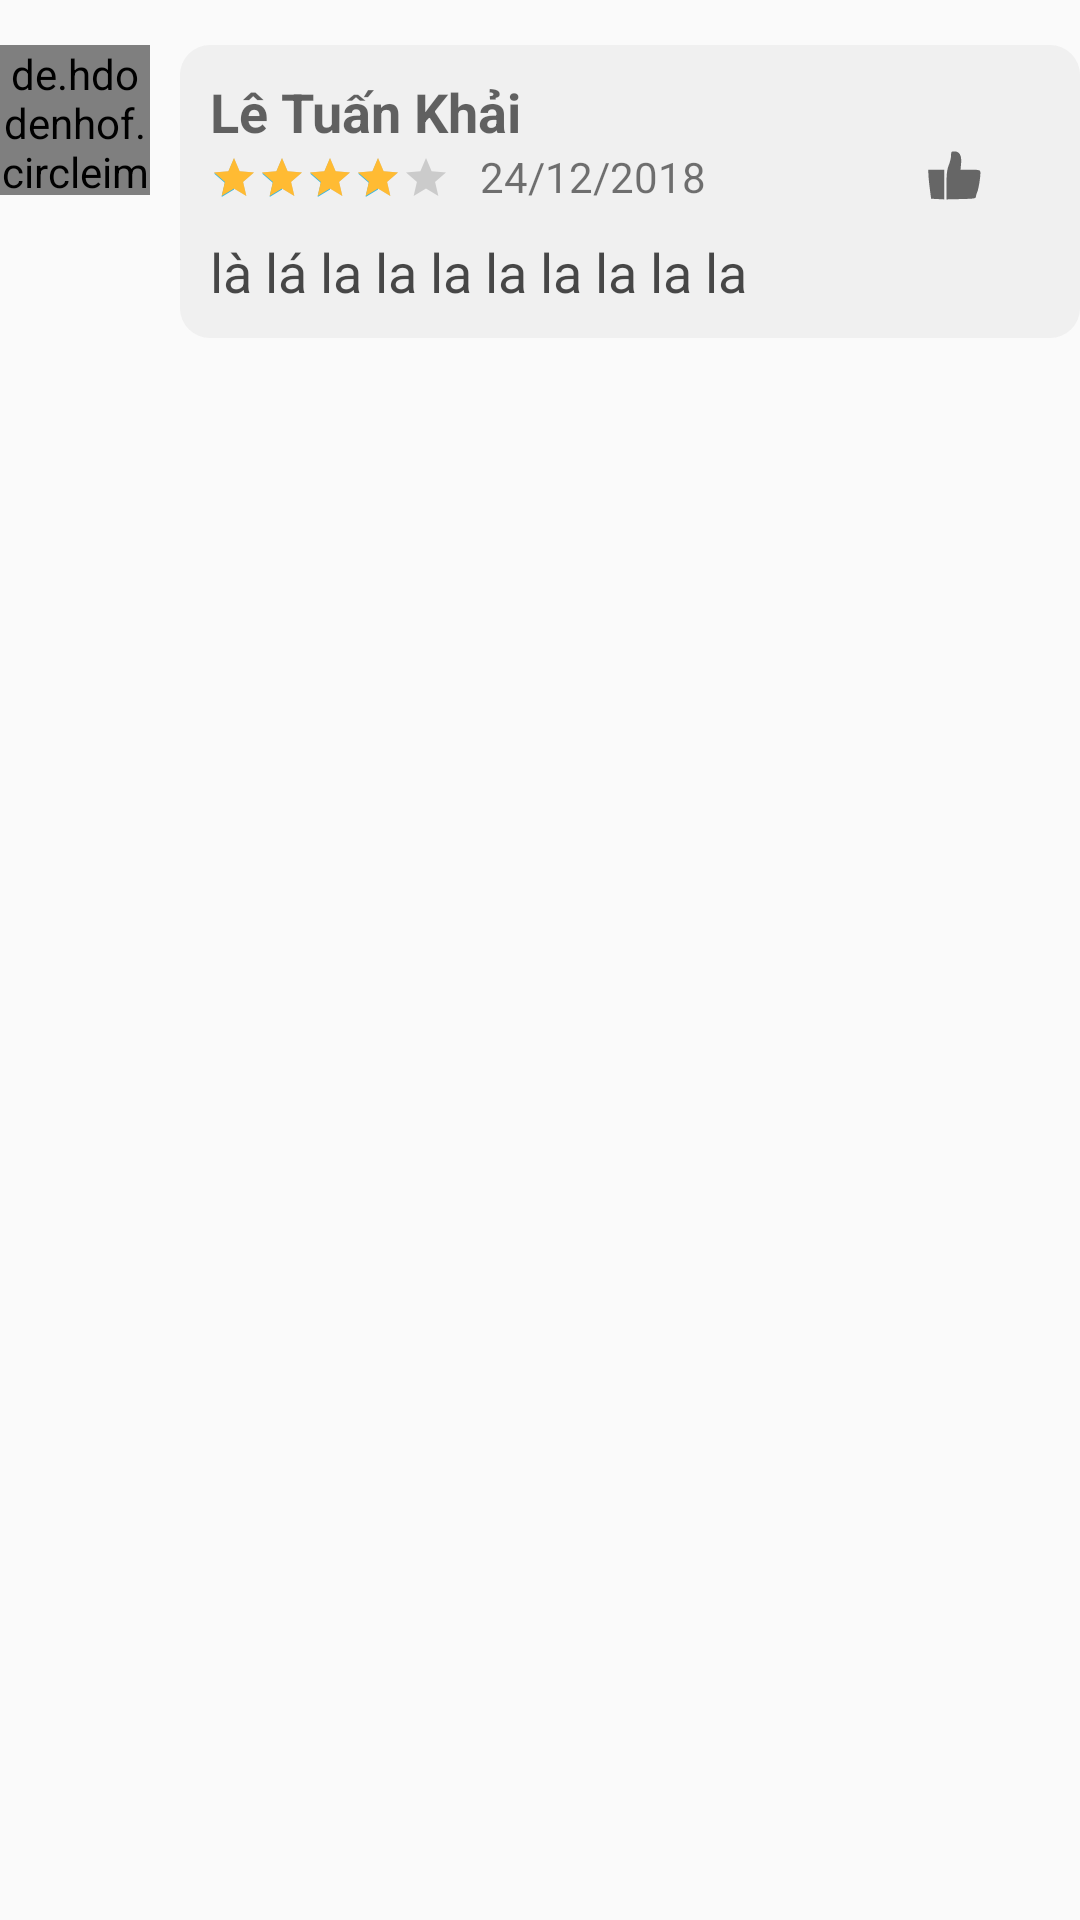

Named icons in this screenshot (1080×1920) and their centers, point (x, y):
like: point (954, 175)
